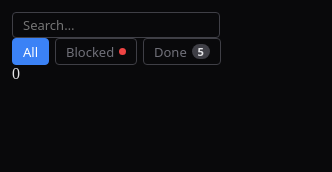
Test: FilterBar › writes the search query to the URL
Type "triage" into the search field with placeholder "Search…". click: [116, 25]
box: x1=12 y1=12 x2=220 y2=38
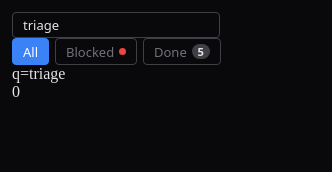
Expected: the text with test id "query" reads "q=triage", x1=12 y1=65 x2=66 y2=82
